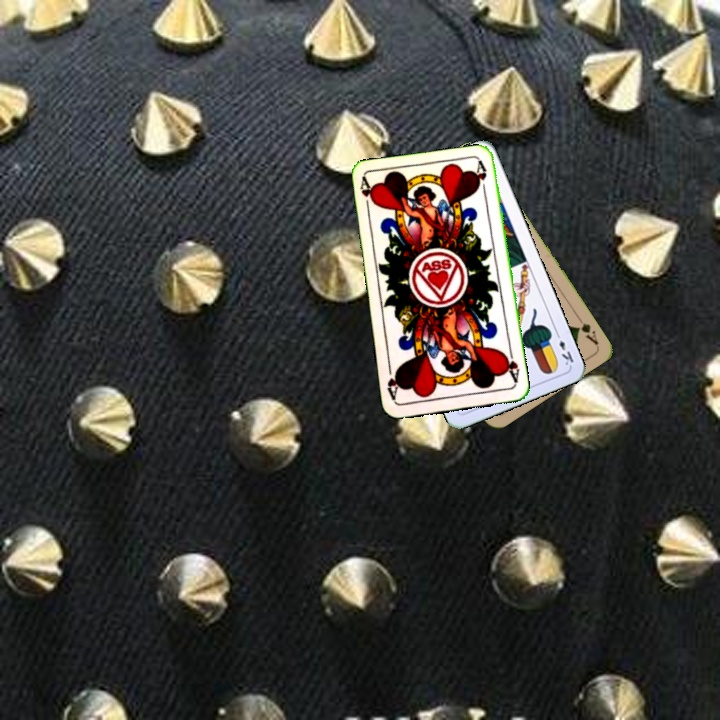EK: (552, 328, 576, 368)
GA: (572, 312, 601, 347)
HA: (500, 345, 522, 386), (356, 175, 377, 216)
